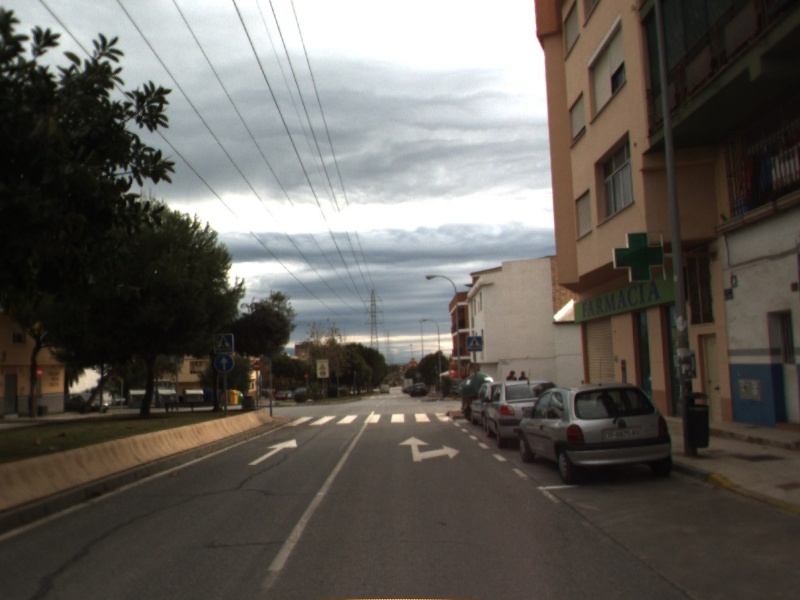STRAIGHT: (246, 437, 299, 467)
STRAIGHT_RIGHT: (397, 434, 462, 463)
